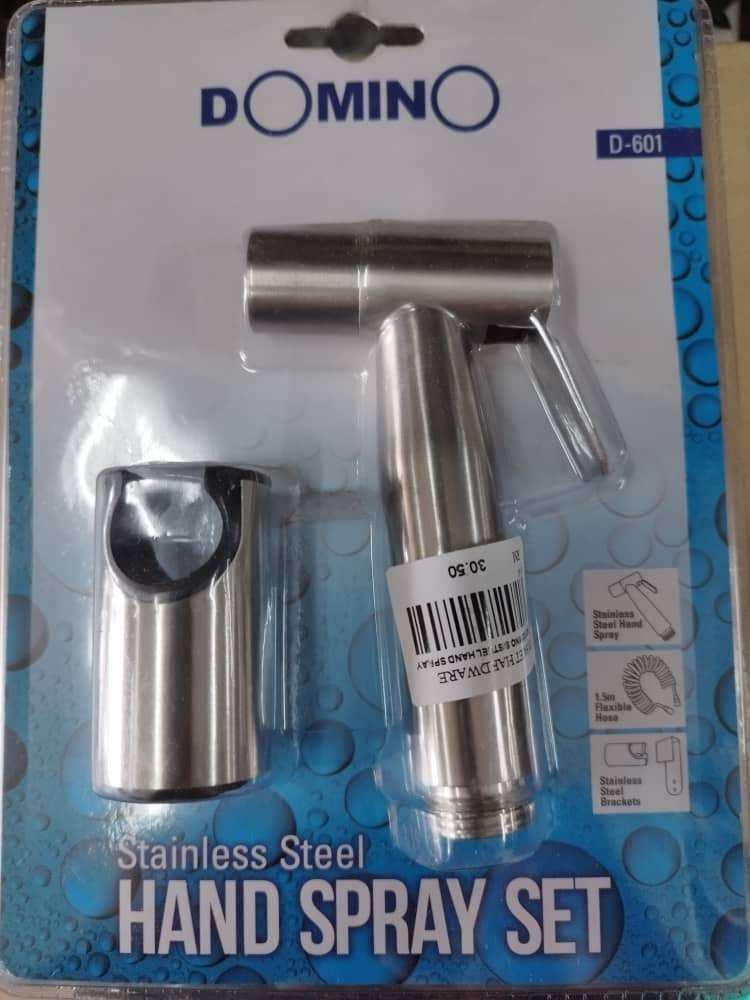sku_sss304_hand_spray_set: (62, 201, 700, 978)
